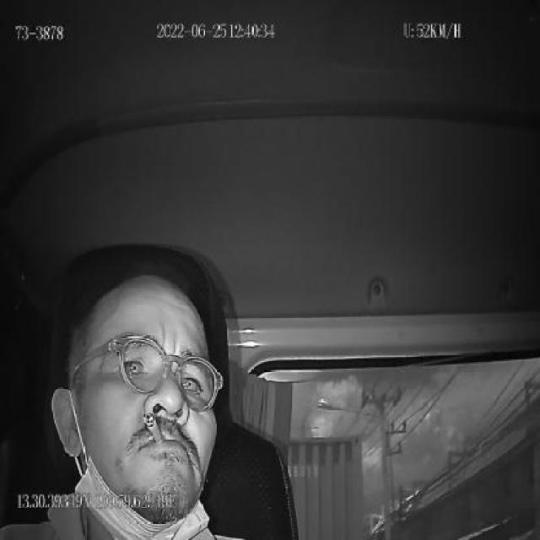smoking: (142, 411, 164, 445)
